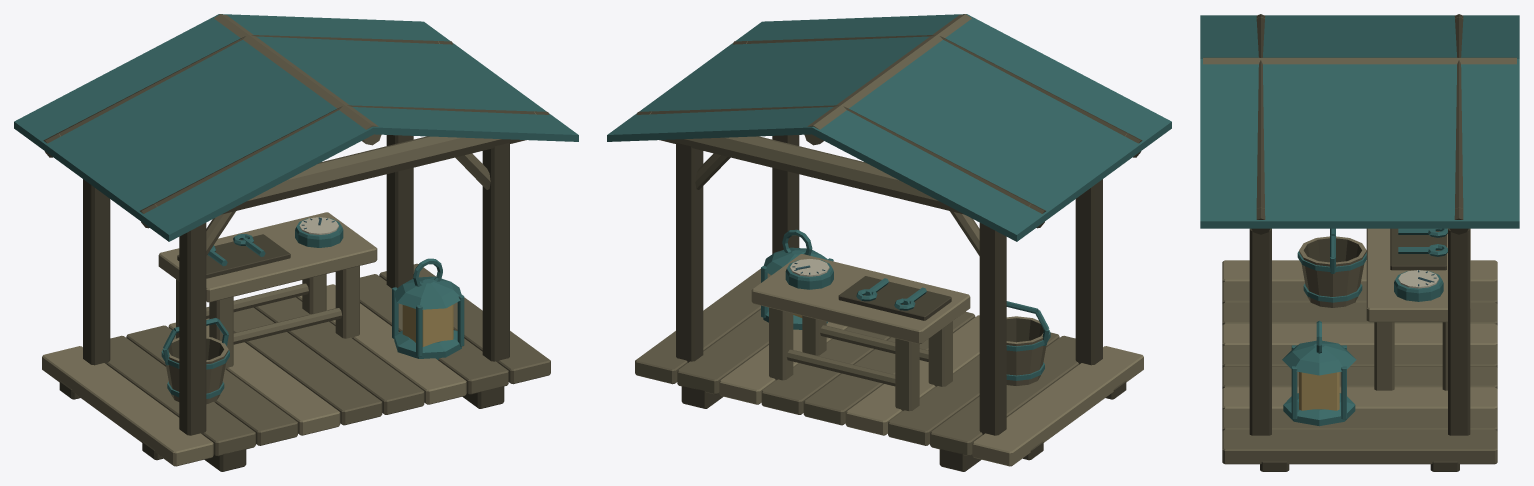
Rendered from repair-canopy.glb.
The picture shows the model from 3 angles, left to right: view 1: azimuth 30°, elevation 25°; view 2: azimuth 150°, elevation 25°; view 3: azimuth 270°, elevation 25°; orthographic projection. The views are drawn at different scales.
Parts seen in each view (by area): view 1: repair-canopy__body; view 2: repair-canopy__body; view 3: repair-canopy__body.
Part boxes in pixels (left/top/right/bottom): repair-canopy__body: left=14, top=14, right=578, bottom=471; repair-canopy__body: left=607, top=14, right=1171, bottom=471; repair-canopy__body: left=1200, top=14, right=1519, bottom=471.
Size of the model in its own units: 2.16 by 1.61 by 1.42.
